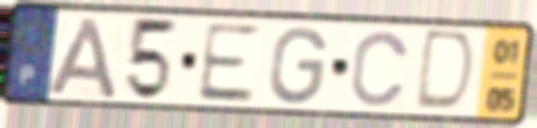5: (124, 14, 178, 103)
A: (44, 14, 120, 101)
C: (348, 28, 413, 110)
D: (410, 27, 479, 116)
E: (193, 19, 263, 105)
G: (266, 24, 330, 107)
